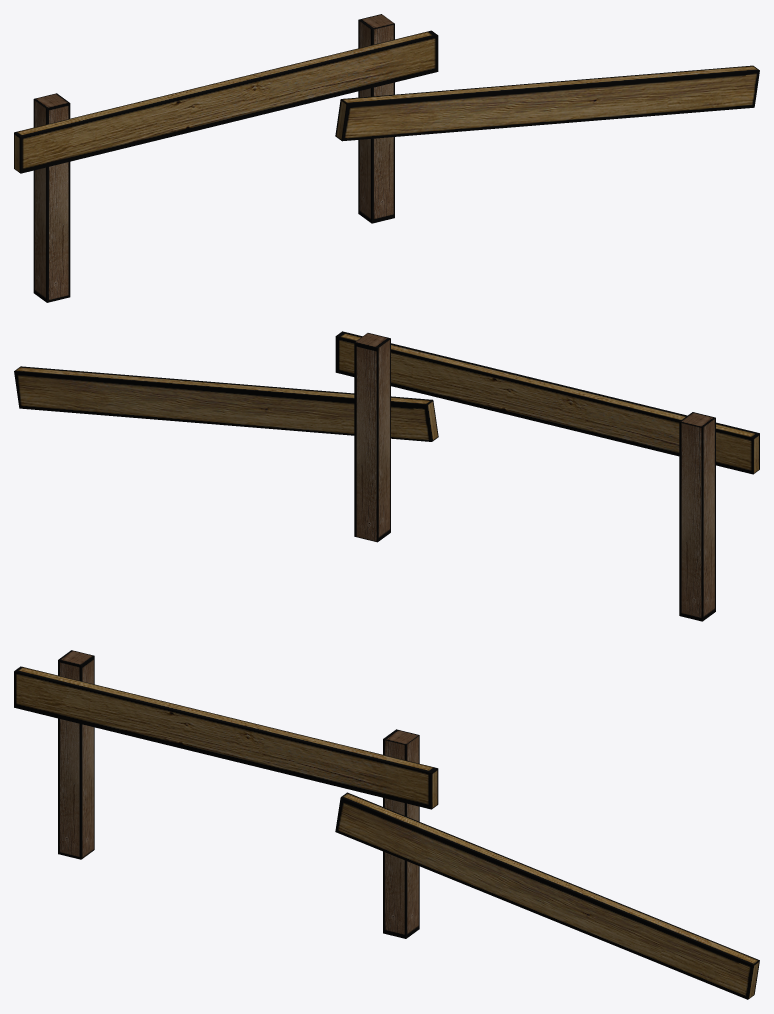
File: WoodFences_01.FBX
3 views of the same model, one above another, from view 1: azimuth 30°, elevation 25°; view 2: azimuth 150°, elevation 25°; view 3: azimuth 330°, elevation 25° (orthographic).
Visible parts, largest first — view 1: Box004; view 2: Box004; view 3: Box004.
Boxes of the visible parts, x1,y1,x2,y2 form: Box004: (14, 14, 759, 302); Box004: (14, 331, 759, 621); Box004: (14, 650, 759, 999).
Bounding box in the file's own units: 159 × 40 × 8.31.
